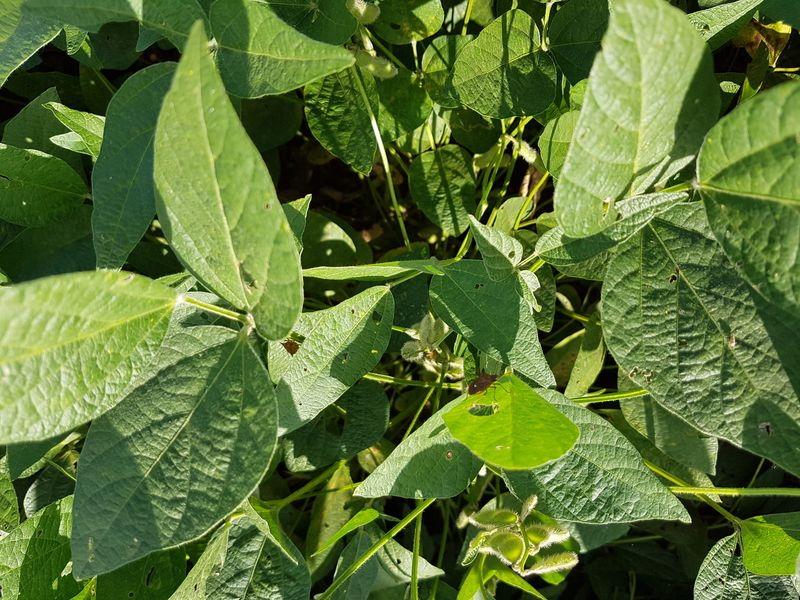Euschistus_heros_adulto: (463, 366, 514, 408), (276, 335, 304, 361)
